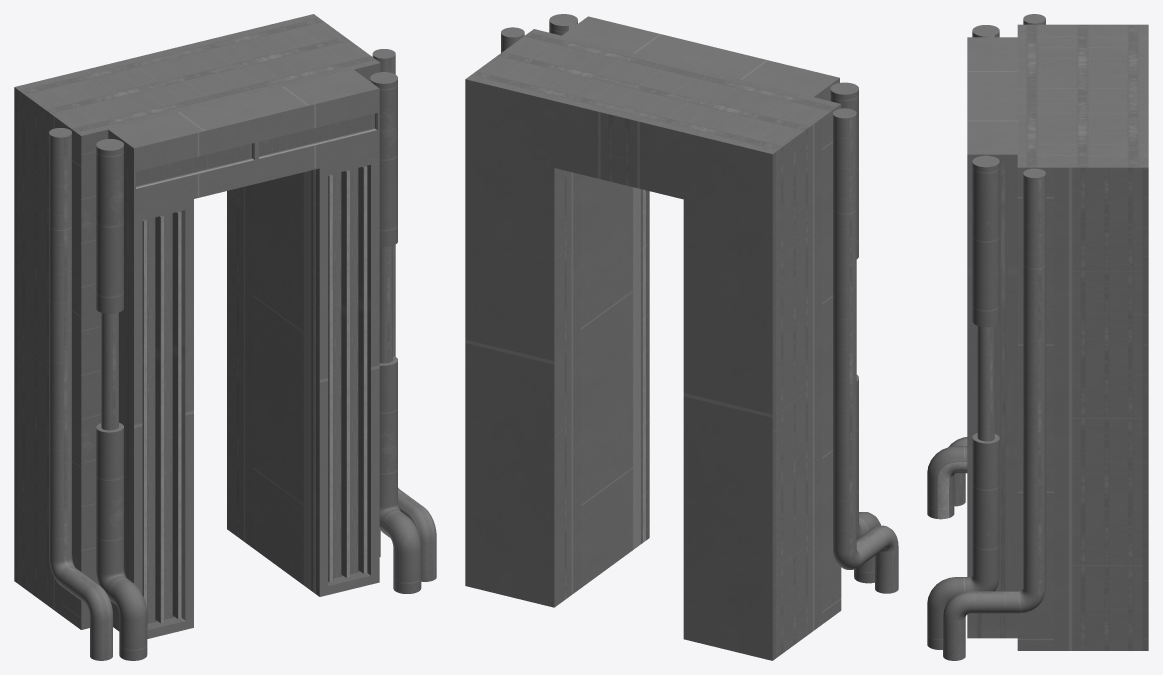
File: SM_Entrance.glb
3 views of the same model, side by side, from view 1: azimuth 30°, elevation 25°; view 2: azimuth 150°, elevation 25°; view 3: azimuth 270°, elevation 25° (orthographic). The views are drawn at different scales.
Parts seen in each view (by area): view 1: SM_Entrance; view 2: SM_Entrance; view 3: SM_Entrance.
Part boxes in pixels (<box>): SM_Entrance: <box>14,14,436,660</box>; SM_Entrance: <box>465,14,898,660</box>; SM_Entrance: <box>927,14,1148,660</box>.
Size of the model in its own units: 9.93 by 13.64 by 5.67.
1 material, 1 textured.
